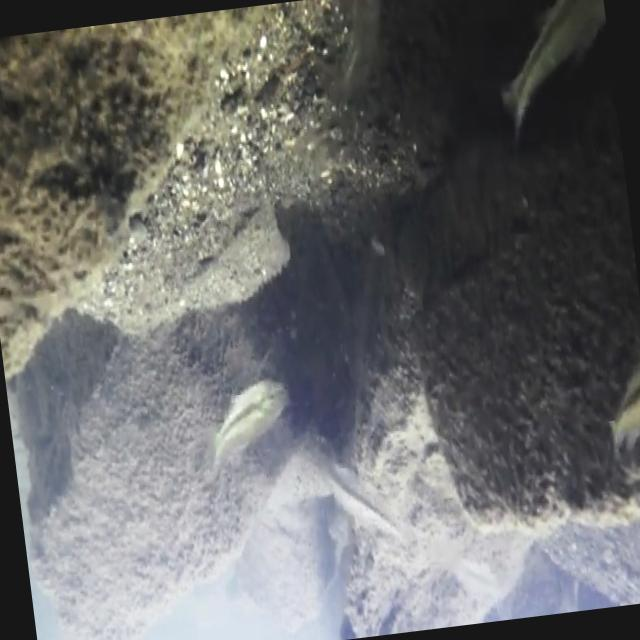Cakil Baligi: (190, 356, 300, 496), (308, 422, 424, 554)
